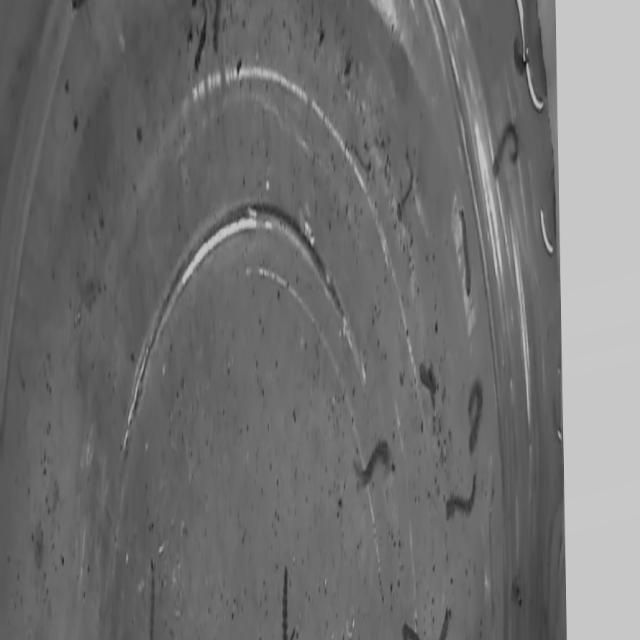larvas: (358, 436, 390, 482), (492, 124, 520, 176), (446, 476, 476, 516), (458, 207, 471, 295), (468, 382, 484, 451), (400, 148, 414, 218), (214, 3, 227, 52)
